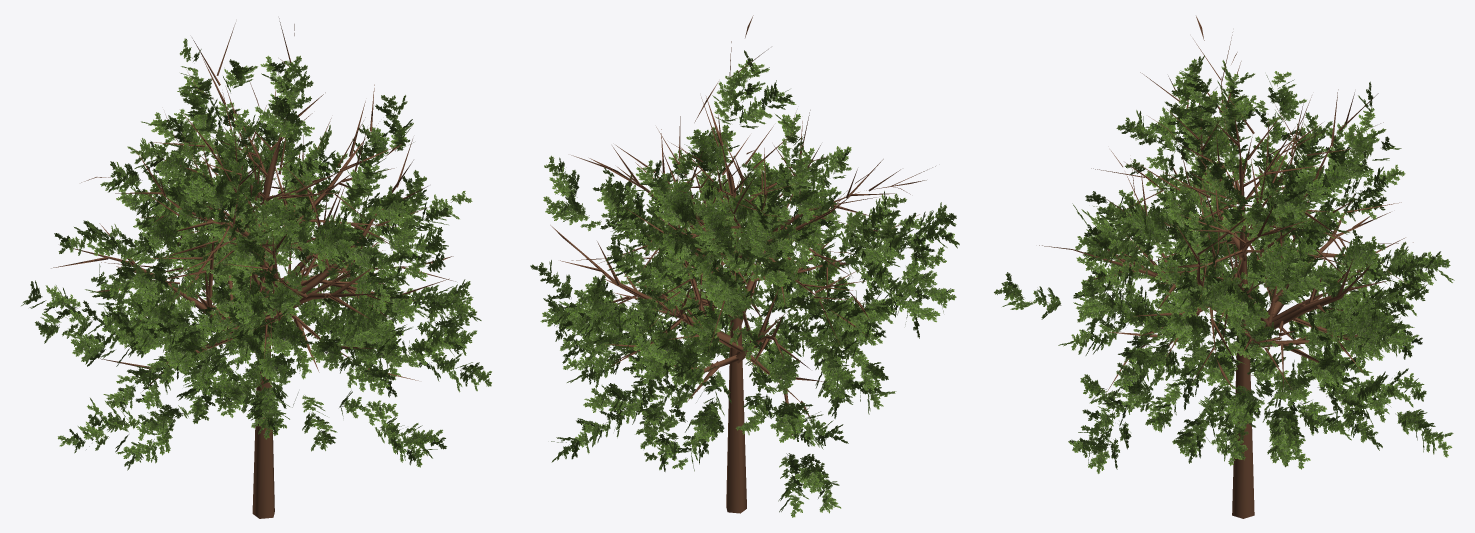
File: tree2.glb
3 views of the same model, side by side, from view 1: azimuth 30°, elevation 25°; view 2: azimuth 150°, elevation 25°; view 3: azimuth 270°, elevation 25° (orthographic). The views are drawn at different scales.
Visible parts, largest first — view 1: leaves, trunk; view 2: leaves, trunk; view 3: leaves, trunk.
Boxes of the visible parts, x1=… form: leaves: x1=21, y1=38, x2=491, y2=470; trunk: x1=51, y1=18, x2=455, y2=518; leaves: x1=530, y1=50, x2=959, y2=517; trunk: x1=550, y1=15, x2=935, y2=513; leaves: x1=994, y1=55, x2=1454, y2=473; trunk: x1=1039, y1=16, x2=1413, y2=518.
Size of the model in its own units: 26896 by 31572 by 26791.
Materials: 2 (1 with a texture image).
